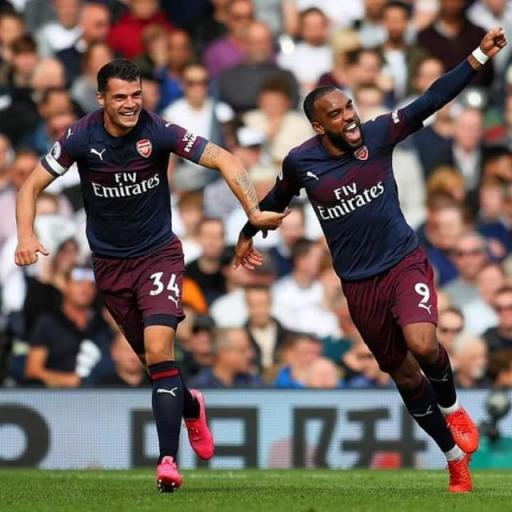Emirates: (316, 176, 388, 224), (88, 169, 162, 199)
